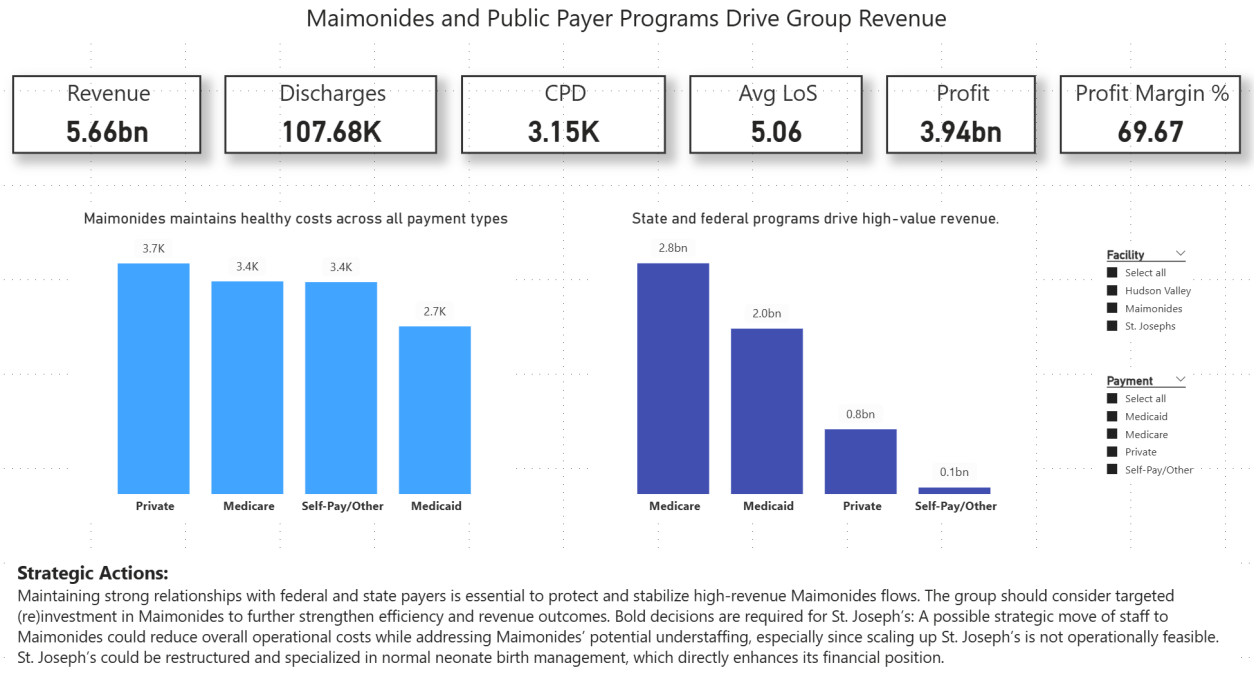

Layout of this report page (visuals, bound fields, positions):
{"tool":"powerbi","page":{"name":"C-Level","canvas":[1280,720],"ordinal":1},"visuals":[{"type":"card","title":"Profit","fields":{"Values":["clevel_dataset.Profit Total"]},"box":[904,80,152,80],"z":0},{"type":"card","title":"Discharges","fields":{"Values":["clevel_dataset.Discharges Total"]},"box":[232,80,216,80],"z":1000},{"type":"card","title":"Revenue","fields":{"Values":["clevel_dataset.Revenue Total"]},"box":[16,80,192,80],"z":2000},{"type":"card","title":"CPD","fields":{"Values":["clevel_dataset.Cost per Day"]},"box":[472,80,208,80],"z":3000},{"type":"card","title":"Avg LoS","fields":{"Values":["clevel_dataset.Avg LoS"]},"box":[704,80,176,80],"z":4000},{"type":"card","title":"Profit Margin %","fields":{"Values":["clevel_dataset.Profit Margin"]},"box":[1080,80,184,80],"z":5000},{"type":"clusteredColumnChart","title":"Maimonides maintains healthy costs across all payment types","fields":{"Category":["clevel_dataset.Payment Type"],"Y":["clevel_dataset.Cost per Day"]},"box":[80,216,448,320],"z":6000},{"type":"slicer","fields":{"Values":["clevel_dataset.Facility Name"]},"box":[1120,256,96,96],"z":7000},{"type":"slicer","fields":{"Values":["clevel_dataset.Payment Type"]},"box":[1120,384,96,112],"z":8000},{"type":"textbox","box":[16,568,1248,136],"z":9000},{"type":"textbox","box":[0,0,1280,48],"z":10000},{"type":"clusteredColumnChart","title":"State and federal programs drive high-value revenue.","fields":{"Category":["clevel_dataset.Payment Type"],"Y":["clevel_dataset.Revenue Total"]},"box":[608,216,448,320],"z":13000}]}

Visuals, with their boxes in screenshot pixels (x1, y1, x2, y2), scaled from the page's 1280x720 canvas onto the 1254x688 screenshot:
"Profit" card: l=886, t=76, r=1035, b=153
"Discharges" card: l=227, t=76, r=439, b=153
"Revenue" card: l=16, t=76, r=204, b=153
"CPD" card: l=462, t=76, r=666, b=153
"Avg LoS" card: l=690, t=76, r=862, b=153
"Profit Margin %" card: l=1058, t=76, r=1238, b=153
"Maimonides maintains healthy costs across all payment types" clusteredColumnChart: l=78, t=206, r=517, b=512
slicer - clevel_dataset.Facility Name: l=1097, t=245, r=1191, b=336
slicer - clevel_dataset.Payment Type: l=1097, t=367, r=1191, b=474
textbox: l=16, t=543, r=1238, b=673
textbox: l=0, t=0, r=1253, b=46
"State and federal programs drive high-value revenue." clusteredColumnChart: l=596, t=206, r=1035, b=512
